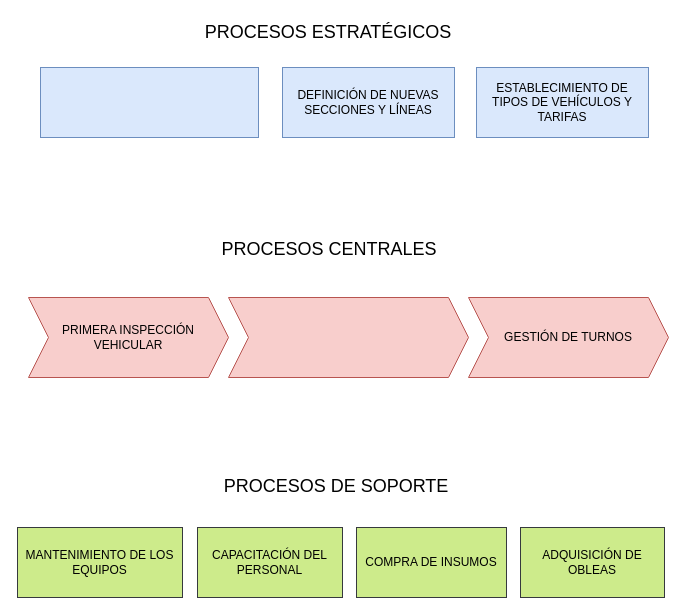
Some shapes in this 686 by 615 pixel diagram are drawn without their labels. Here are the shapes that lost their labels. From the top down, the centre of each, then its label:
At [149,102]: "ESTABLECIMIENTO DE CONDICIONES NECESARIAS PARA LA APROBACIÓN DE LA VTV".
At [348,337]: "REVERIFICACIÓN VEHICULAR".
